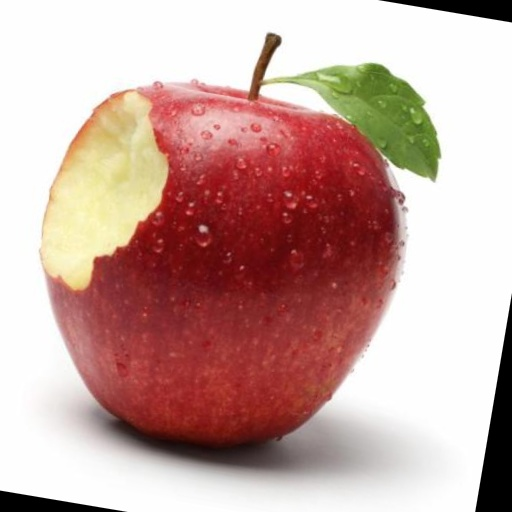fruit: (41, 83, 405, 446)
